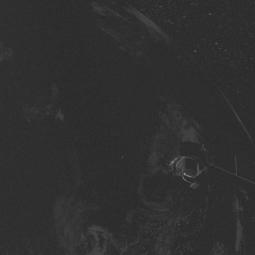earth_observation_sat_1: (162, 134, 253, 218)
